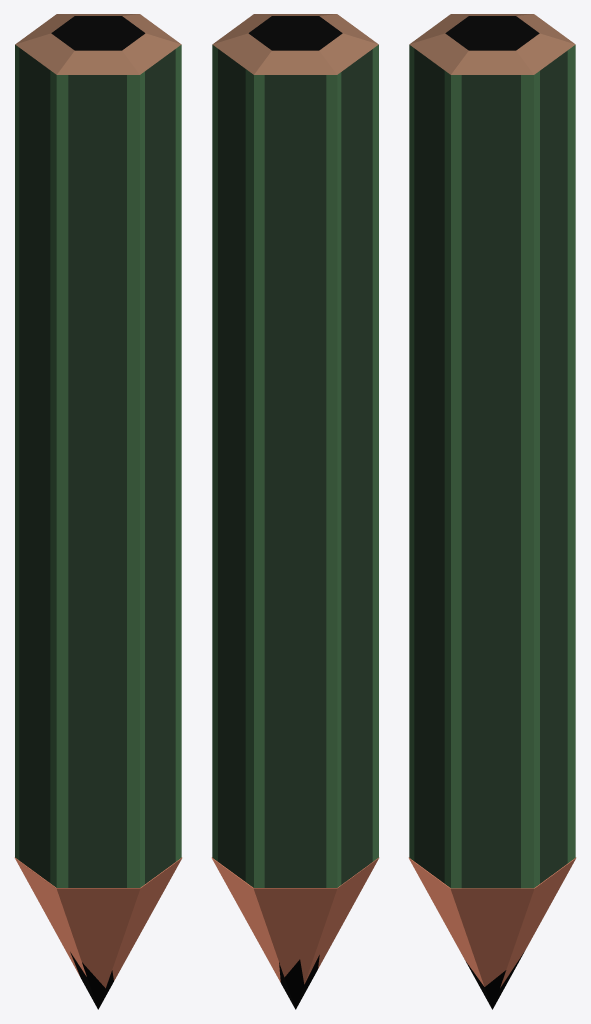
3 renders of one model, left to right at view 1: azimuth 30°, elevation 25°; view 2: azimuth 150°, elevation 25°; view 3: azimuth 270°, elevation 25°, orthographic.
Visible parts, largest first — view 1: Cube, Cone; view 2: Cube, Cone; view 3: Cube, Cone.
Boxes of the visible parts, x1=… form: Cube: x1=15, y1=14, x2=181, y2=887; Cone: x1=14, y1=857, x2=182, y2=1009; Cube: x1=212, y1=14, x2=378, y2=887; Cone: x1=211, y1=857, x2=379, y2=1009; Cube: x1=409, y1=14, x2=575, y2=888; Cone: x1=408, y1=857, x2=576, y2=1009.
Bounding box in the file's own units: 18.1 × 134 × 20.9.
